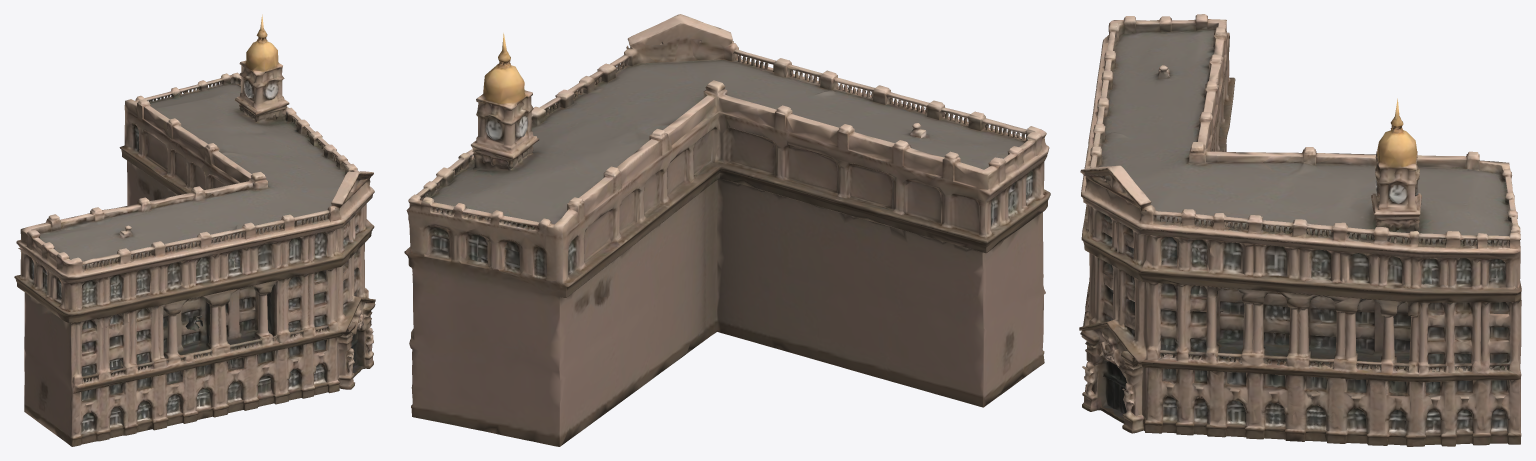
File: tripo_convert_c7a91c01-e7da-44ca-94ff-b0622fb3e1ba.fbx
3 renders of one model, left to right at view 1: azimuth 30°, elevation 25°; view 2: azimuth 150°, elevation 25°; view 3: azimuth 270°, elevation 25°, orthographic. The views are drawn at different scales.
Visible parts, largest first — view 1: tripo_node_c7a91c01; view 2: tripo_node_c7a91c01; view 3: tripo_node_c7a91c01.
Boxes of the visible parts, x1,y1,x2,y2 form: tripo_node_c7a91c01: (14, 14, 375, 446); tripo_node_c7a91c01: (404, 14, 1050, 446); tripo_node_c7a91c01: (1079, 14, 1521, 446).
Bounding box in the file's own units: 1 × 0.7484 × 0.8992.
1 material, 1 textured.
